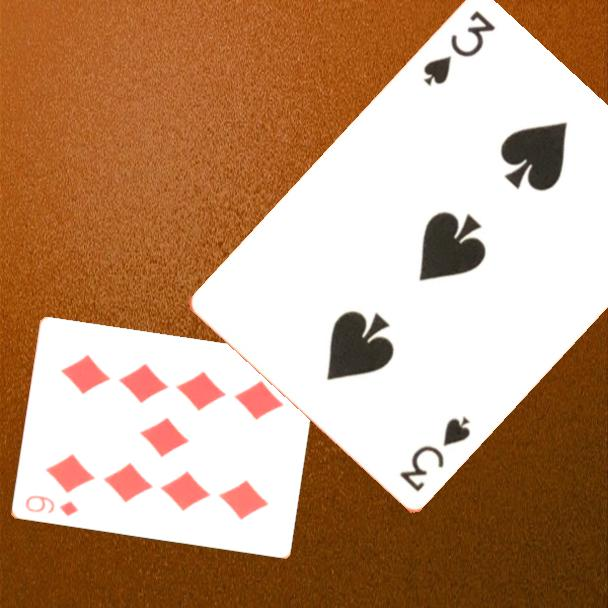d09: (21, 492, 81, 519)
s03: (420, 7, 499, 90), (396, 413, 474, 495)
